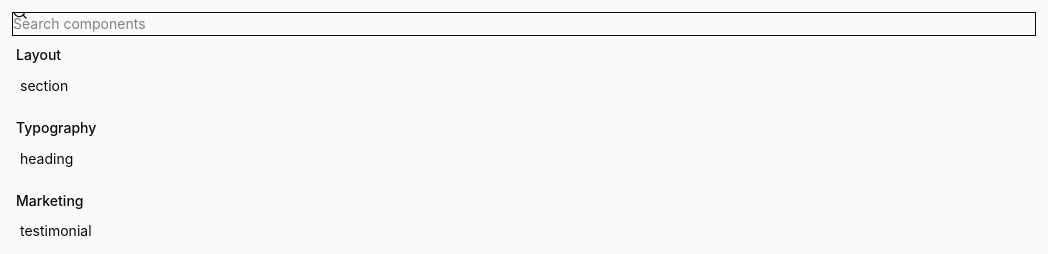
searching › says so when nothing matches
Type "nonesuch" into the search field labelled "Search components". click: (524, 24)
box: [12, 12, 1036, 36]
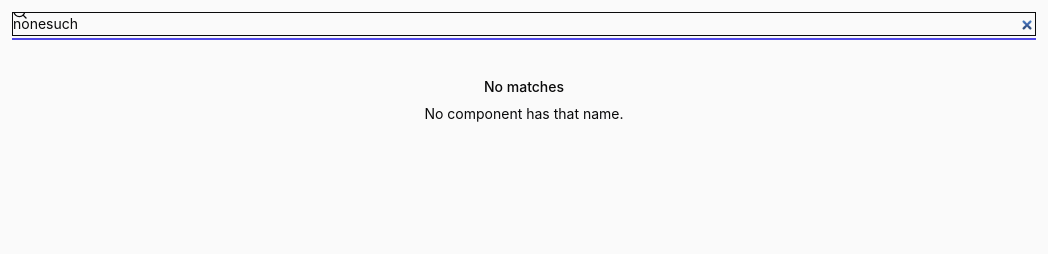
Expected: the text "No component has that name." is shown, [424, 103, 624, 125]
